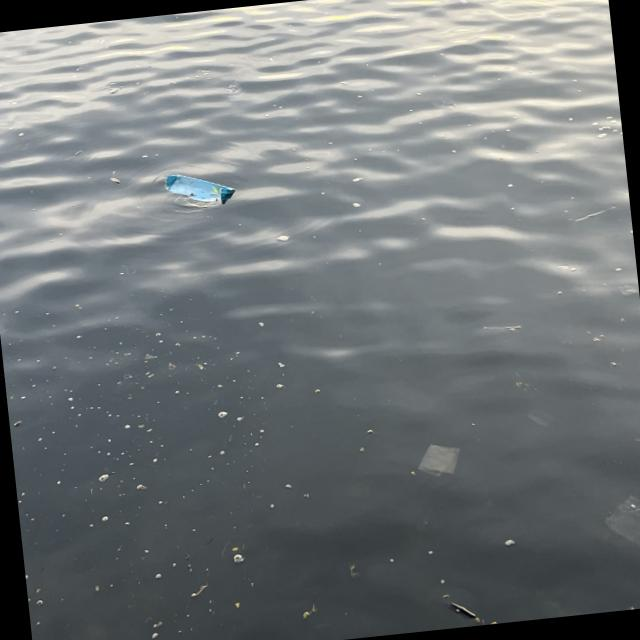plastic bottle: (601, 490, 640, 584)
unknow: (163, 164, 236, 207), (417, 442, 463, 478)
